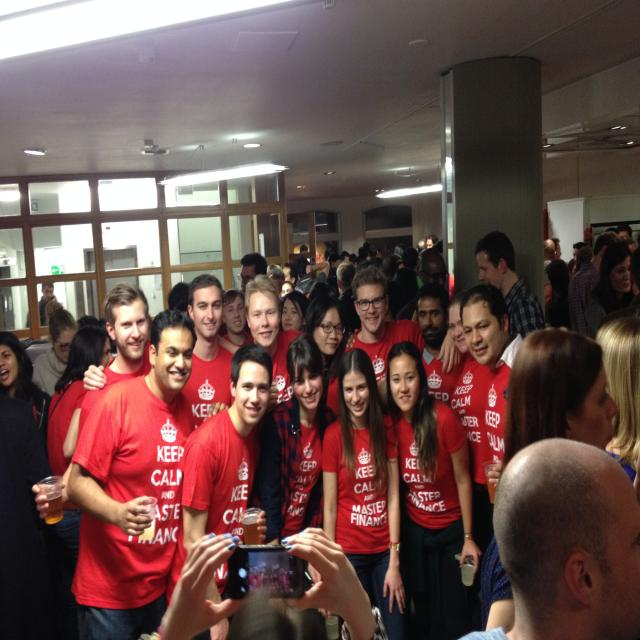body: (456, 196, 640, 639), (66, 309, 198, 640), (160, 340, 274, 640), (384, 340, 483, 640), (32, 282, 152, 520), (220, 235, 456, 353), (149, 524, 381, 640), (320, 343, 410, 640), (459, 286, 526, 546), (256, 332, 337, 546), (342, 269, 461, 408), (458, 282, 525, 506), (46, 322, 114, 482), (234, 272, 310, 401), (179, 272, 236, 430), (474, 230, 546, 338), (415, 279, 469, 409), (0, 330, 53, 459), (32, 300, 78, 397), (26, 283, 55, 326)
